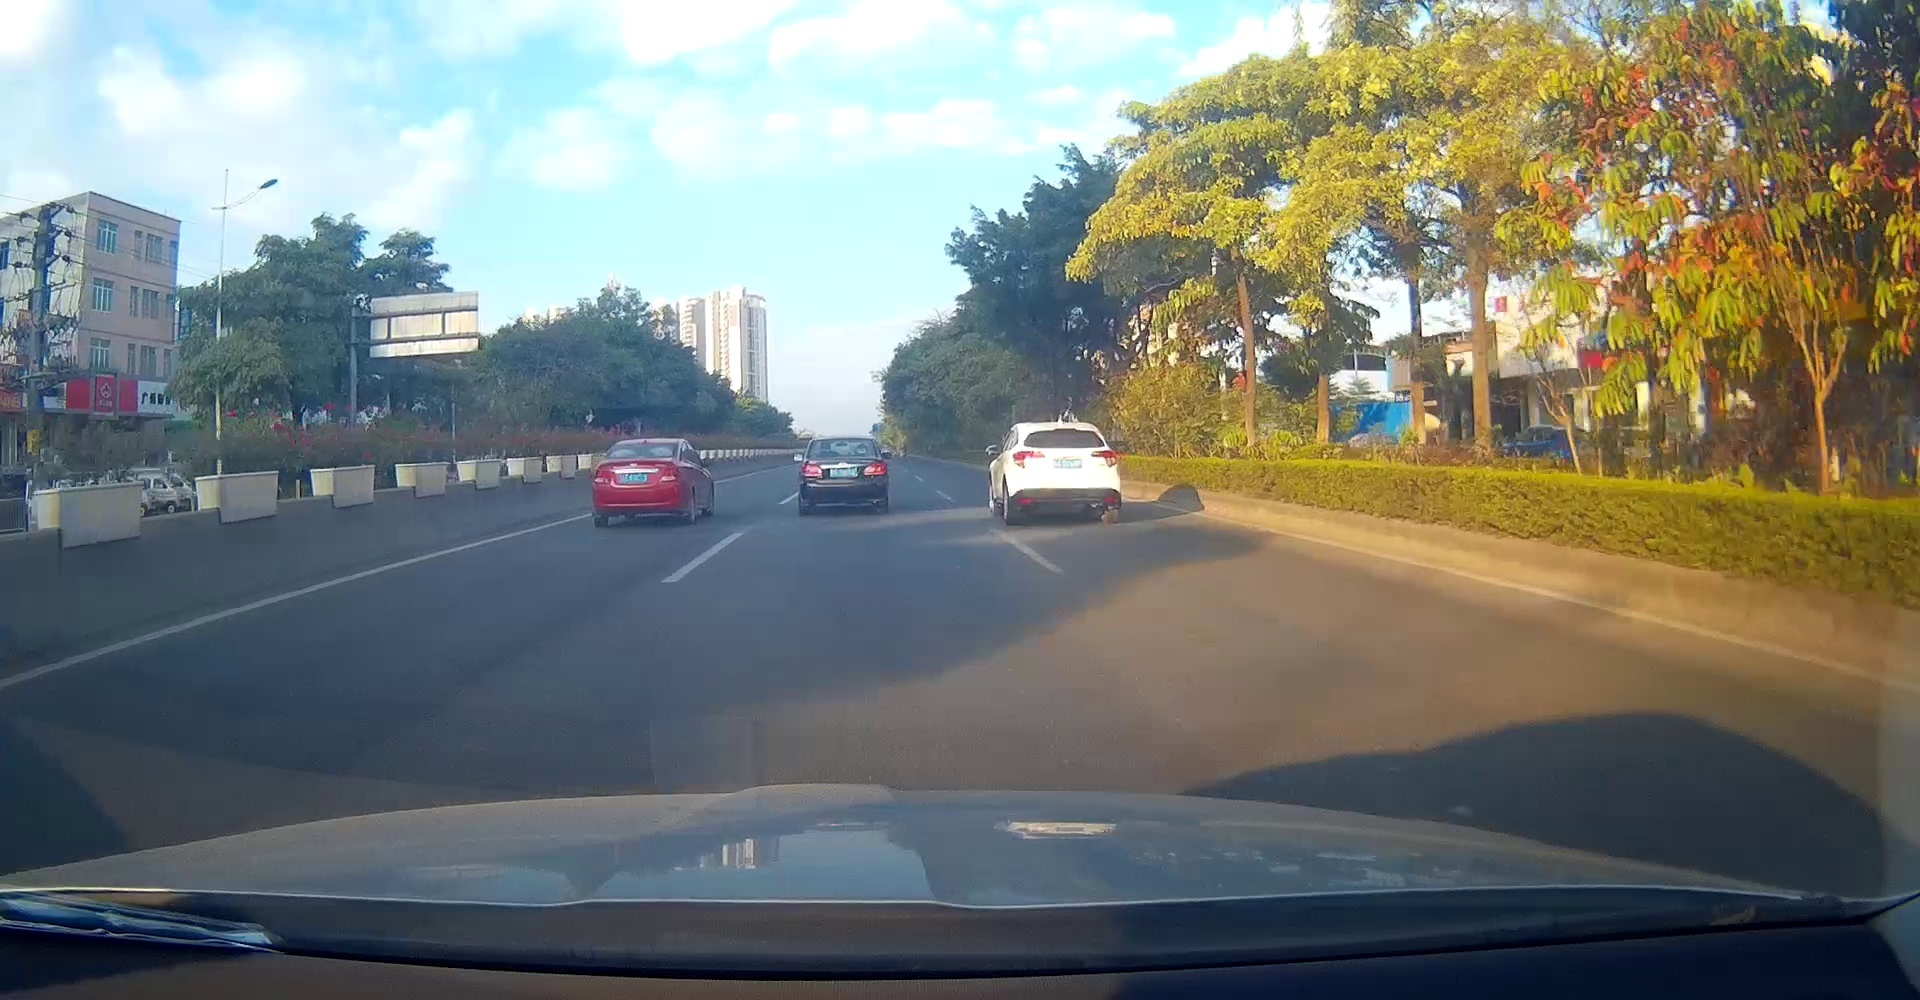L_light: (1012, 449, 1045, 468), (801, 463, 822, 478), (594, 470, 610, 485)
R_light: (1090, 449, 1117, 467), (863, 461, 885, 476), (659, 467, 678, 482)
T_light: (1057, 429, 1073, 431), (836, 439, 848, 442), (636, 444, 650, 445)
day-no: (1010, 423, 1120, 524), (592, 439, 679, 525), (799, 437, 888, 515)
